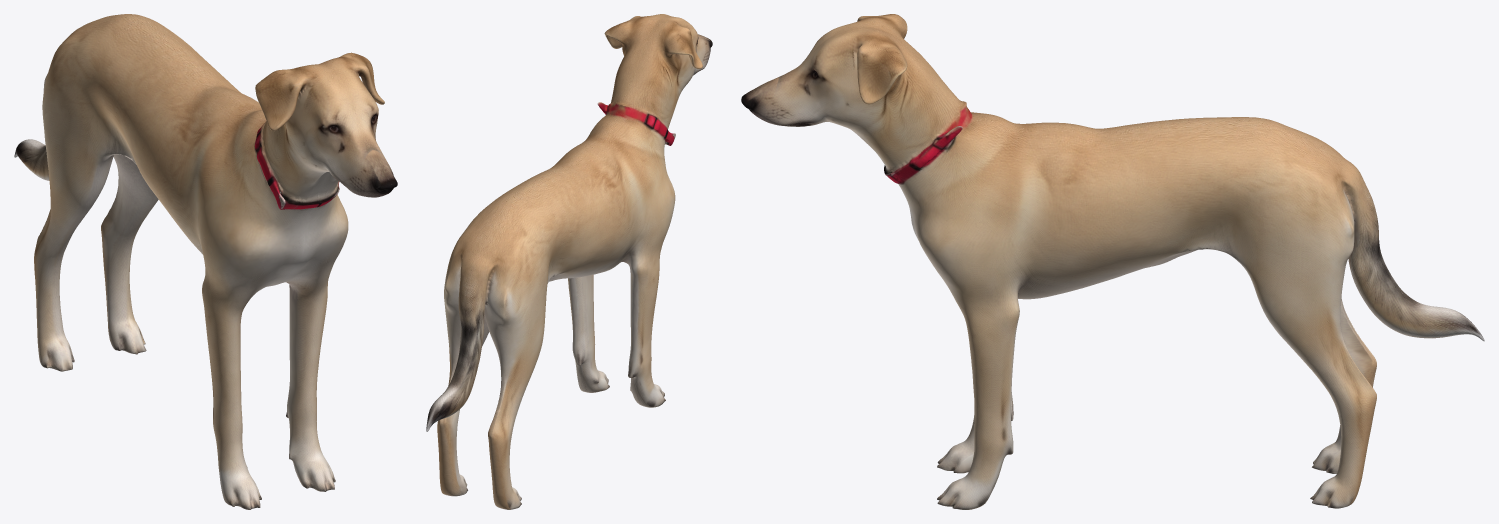
The model's file is Maily.glb.
3 renders of one model, left to right at view 1: azimuth 30°, elevation 25°; view 2: azimuth 150°, elevation 25°; view 3: azimuth 270°, elevation 25°, orthographic. The views are drawn at different scales.
Bounding box in the file's own units: 0.3605 × 1.3 × 1.9.
1 material, 1 textured.
